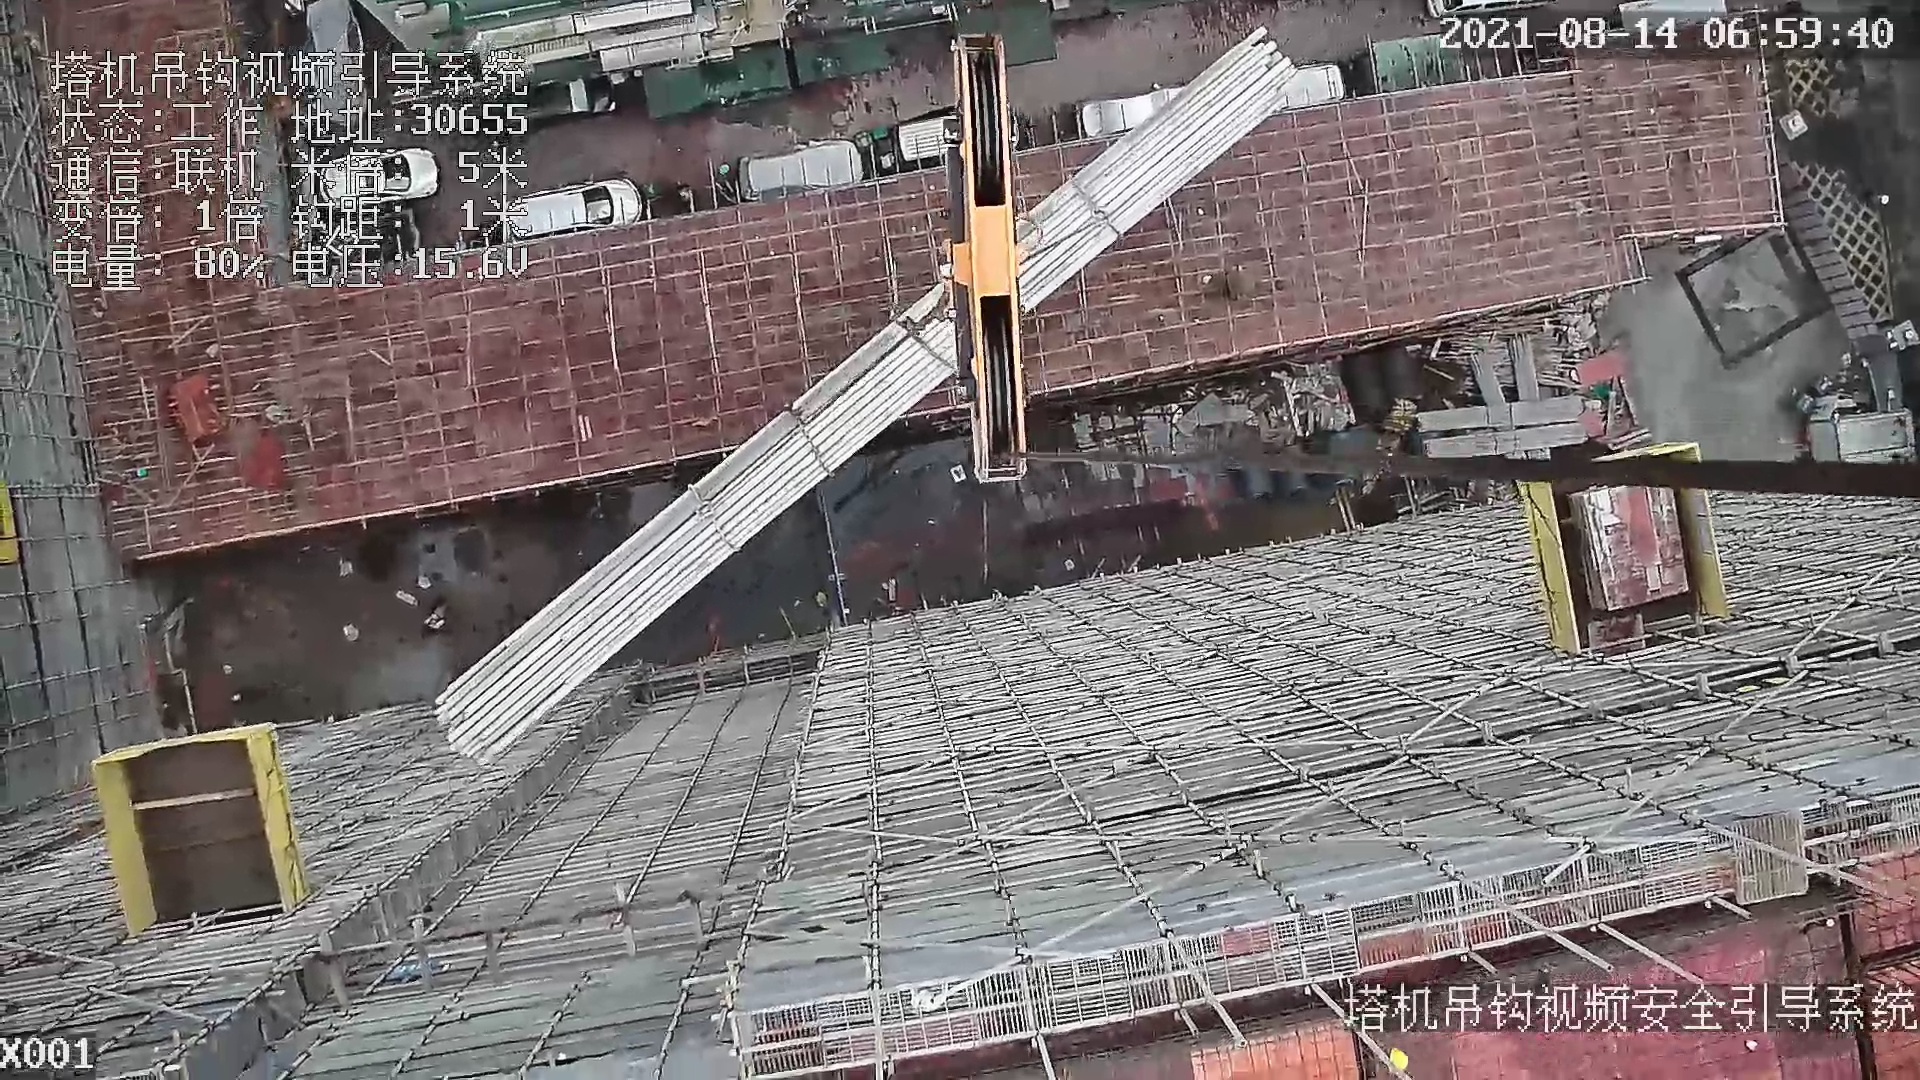board: (1578, 483, 1693, 615)
helmet: (1390, 1047, 1408, 1069)
hook: (903, 28, 1056, 487)
rebar: (436, 32, 1288, 765), (1418, 396, 1584, 435), (1423, 421, 1589, 456), (1506, 334, 1542, 400), (1464, 353, 1505, 404)
